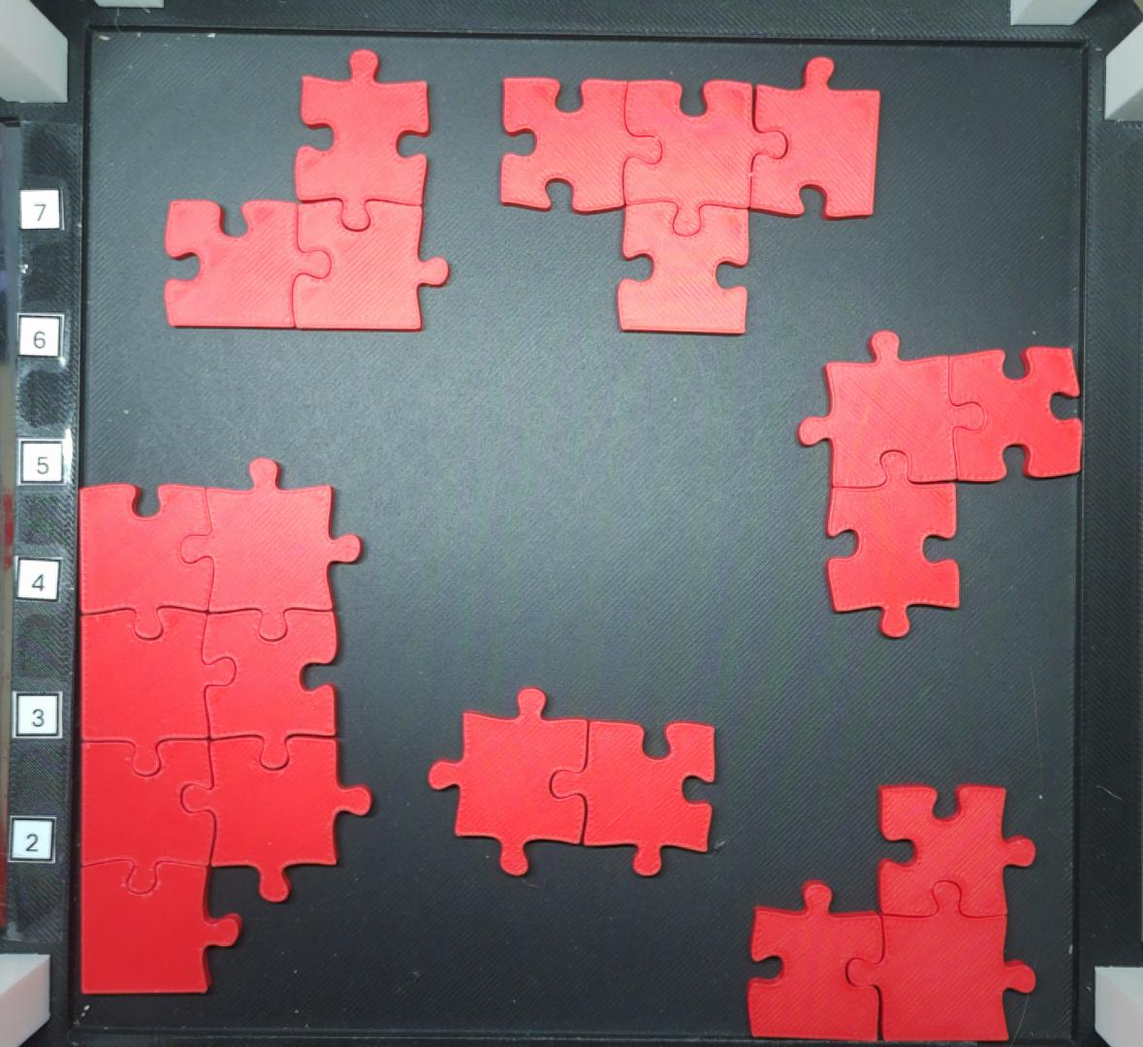p_2: (426, 685, 717, 877)
p_3: (796, 328, 1087, 641), (162, 48, 451, 333), (744, 781, 1038, 1045)
p_4: (497, 55, 883, 336)
p_m: (76, 455, 375, 997)
